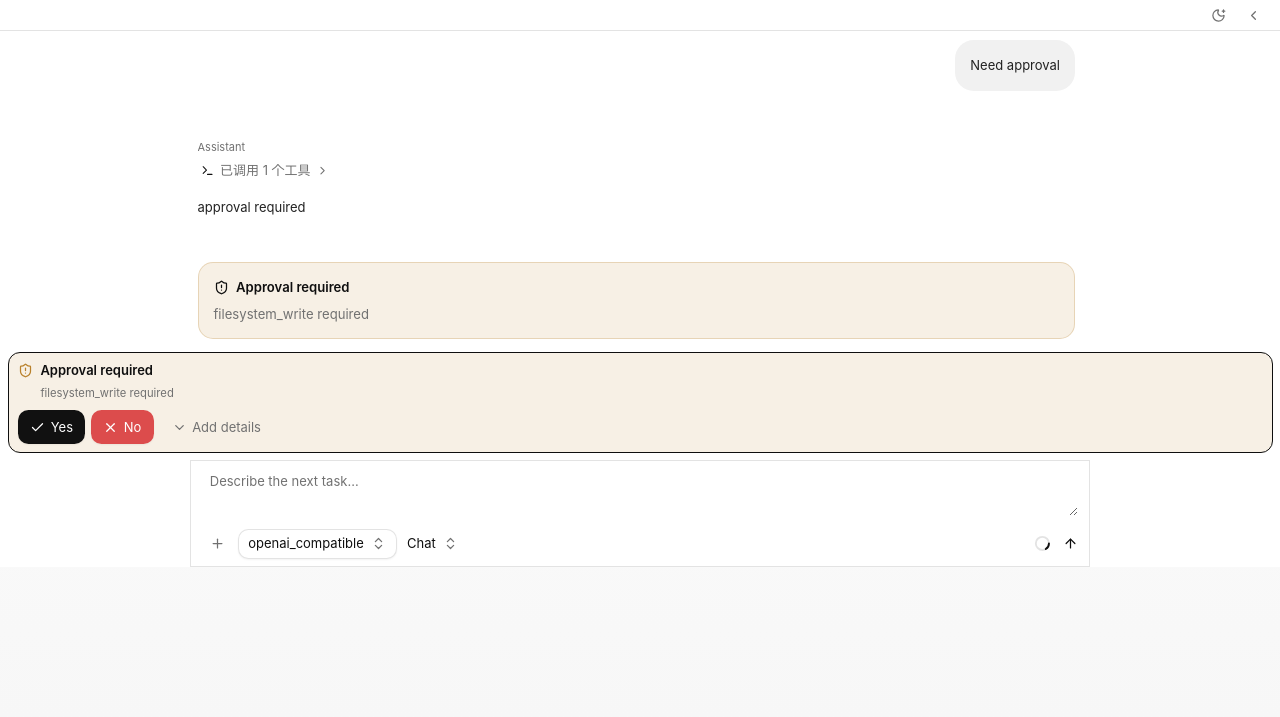
it: WorkspaceShell › formats context usage in drawer settings instead of rendering raw JSON
What coordinates should you click on to do the following:
click the button named "open utilities"
I would click on:
 (1254, 15)
Its box is [1239,0,1269,30].
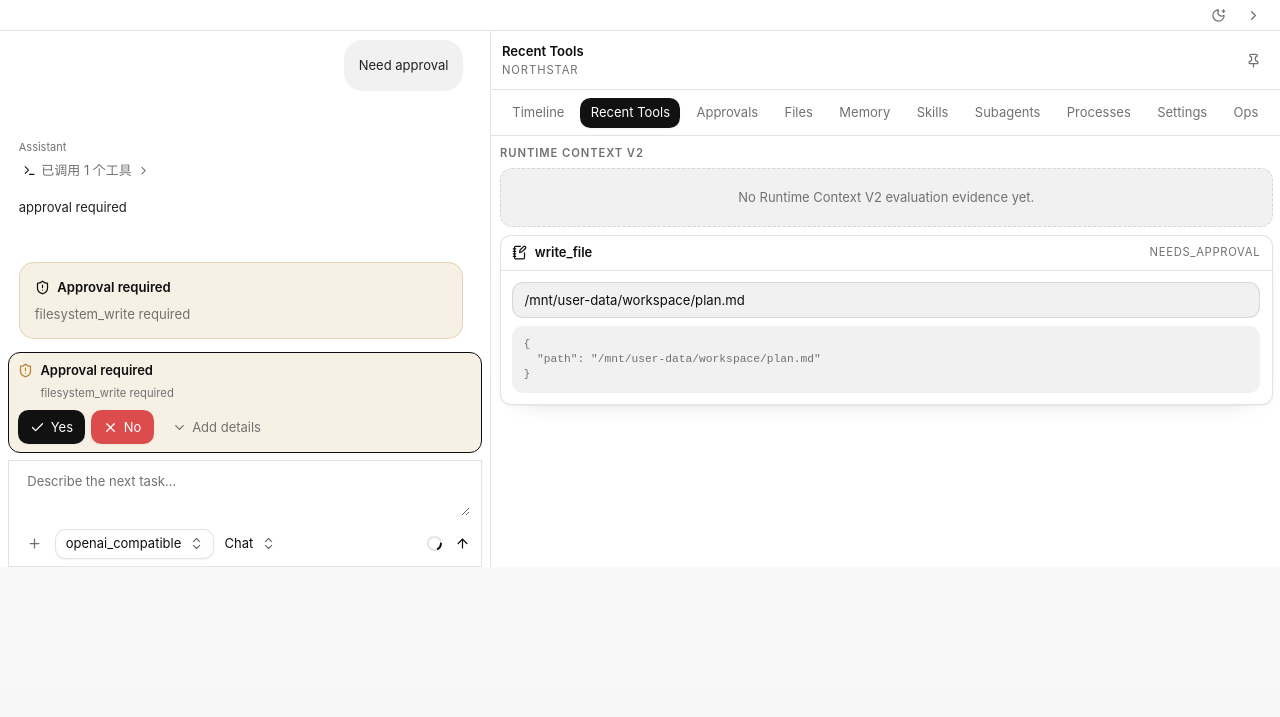
What coordinates should you click on to do the following:
click the button "Settings"
I would click on:
 (1182, 113)
Its box is [1147,98,1218,128].
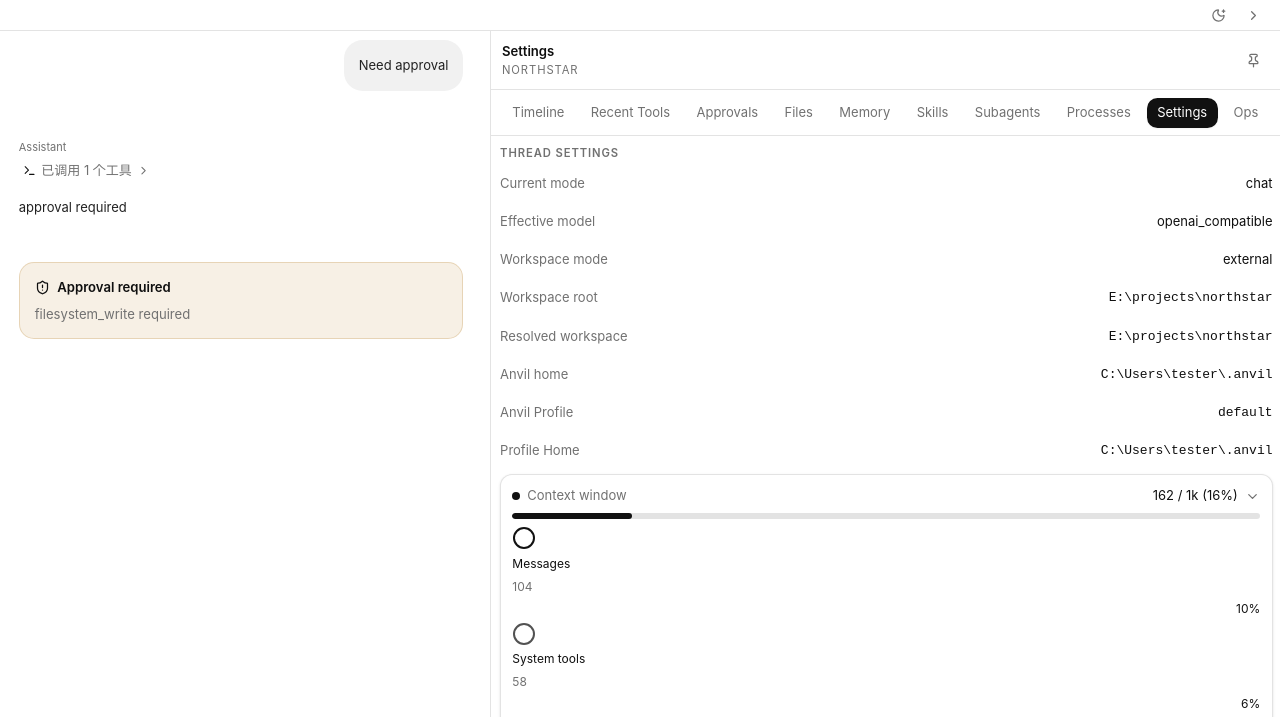
What coordinates should you click on to do the following:
click the button with aria-label "show details"
I would click on:
 (577, 495)
Its box is [512,486,1260,506].
(page scrolled)
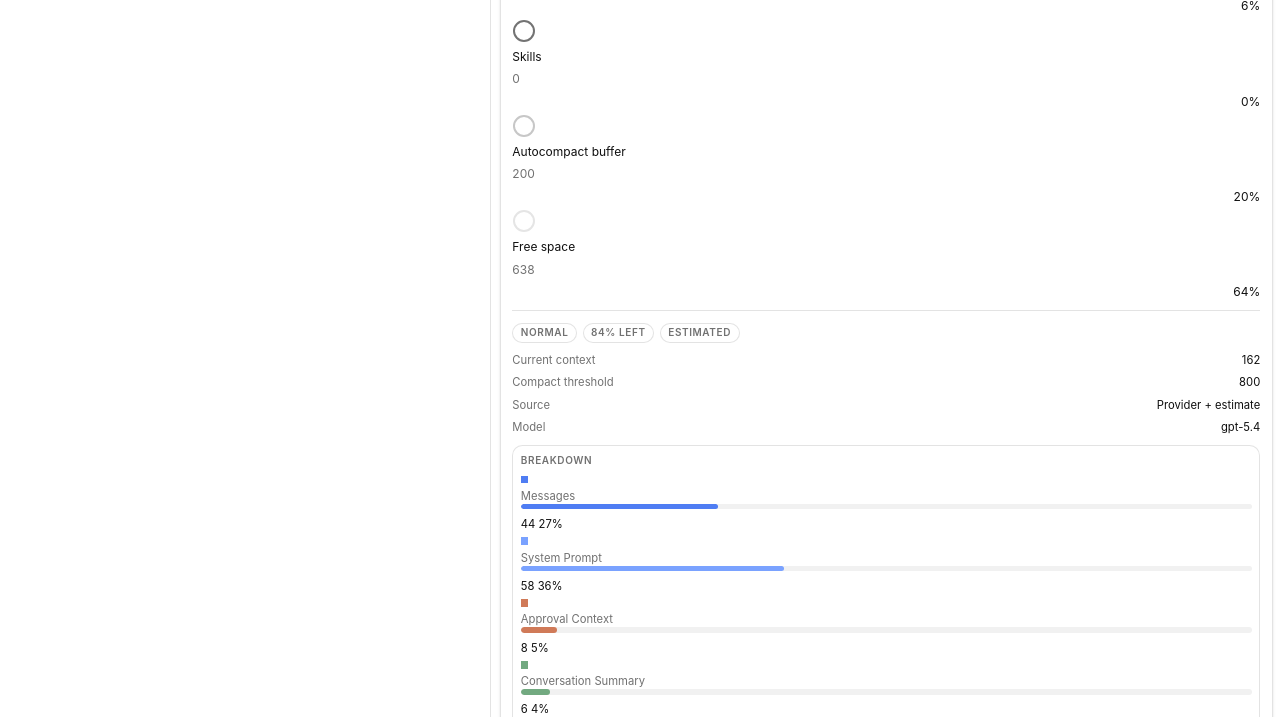
expect the text "162" is shown: met, box [1242,351,1260,370]
expect the text "Current context" is shown: met, box [512,351,595,370]
